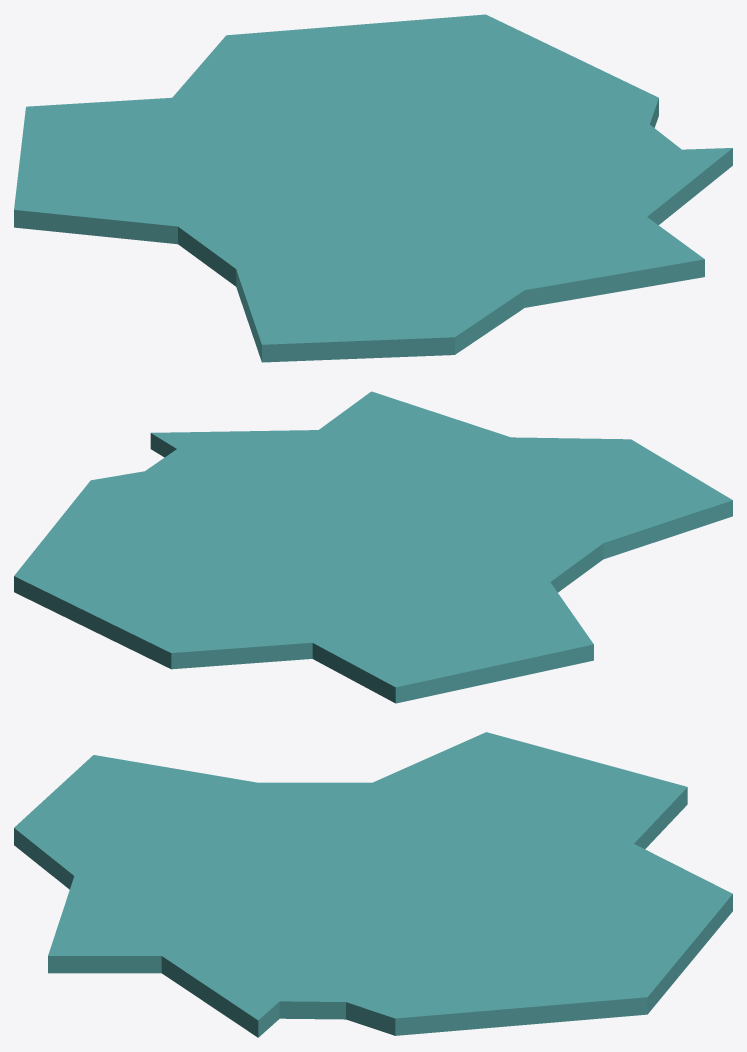
The model's file is TP_Ground02.fbx.
3 renders of one model, top to bottom at view 1: azimuth 30°, elevation 25°; view 2: azimuth 150°, elevation 25°; view 3: azimuth 270°, elevation 25°, orthographic. The views are drawn at different scales.
Parts seen in each view (by area): view 1: TP_Ground02; view 2: TP_Ground02; view 3: TP_Ground02.
Boxes of the visible parts, <box> form: TP_Ground02: <box>14,14,732,362</box>; TP_Ground02: <box>14,391,732,703</box>; TP_Ground02: <box>14,732,732,1037</box>.
Bounding box in the file's own units: 895 × 25.18 × 943.
1 material, 1 textured.
